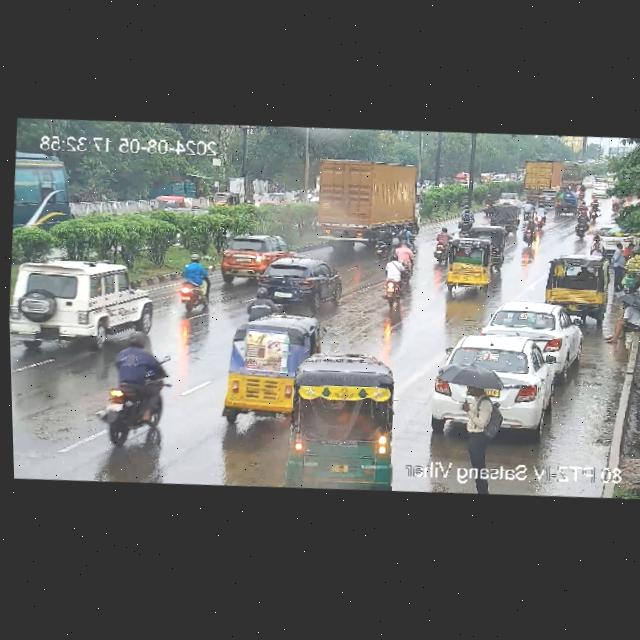bus: (13, 148, 78, 235)
car: (421, 332, 558, 443), (285, 366, 400, 492), (8, 254, 143, 347), (219, 313, 316, 425), (481, 298, 581, 363), (247, 255, 342, 305), (217, 231, 302, 283), (538, 254, 609, 312), (441, 236, 506, 293), (483, 201, 521, 236), (551, 189, 580, 218), (210, 186, 242, 212), (494, 190, 520, 207)
motorcycle: (99, 344, 170, 452), (170, 258, 212, 314), (376, 248, 413, 305), (242, 285, 282, 323), (366, 223, 394, 260), (430, 226, 454, 261), (514, 217, 537, 248), (531, 201, 548, 231), (573, 210, 591, 236), (456, 215, 473, 238)
person: (605, 294, 640, 343), (610, 240, 629, 289)
truck: (299, 155, 428, 256), (407, 459, 547, 500), (511, 156, 577, 194)
